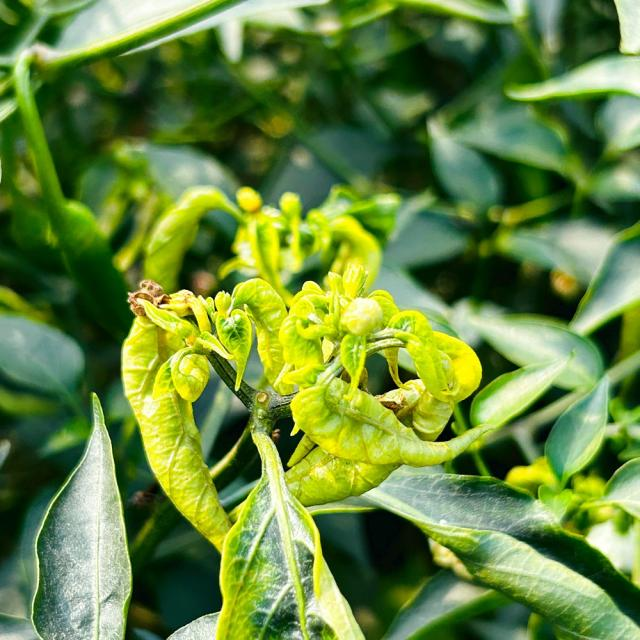Chilli_Leaf_Curl: (2, 1, 638, 639), (119, 258, 494, 638), (358, 462, 638, 638), (273, 260, 491, 468), (213, 408, 366, 638), (119, 280, 234, 553), (29, 391, 133, 639), (542, 373, 610, 487)
